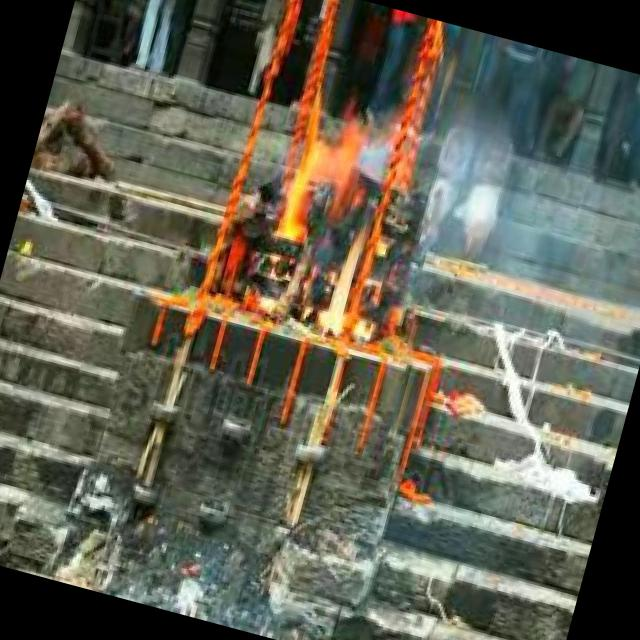Fire: (248, 83, 414, 346)
